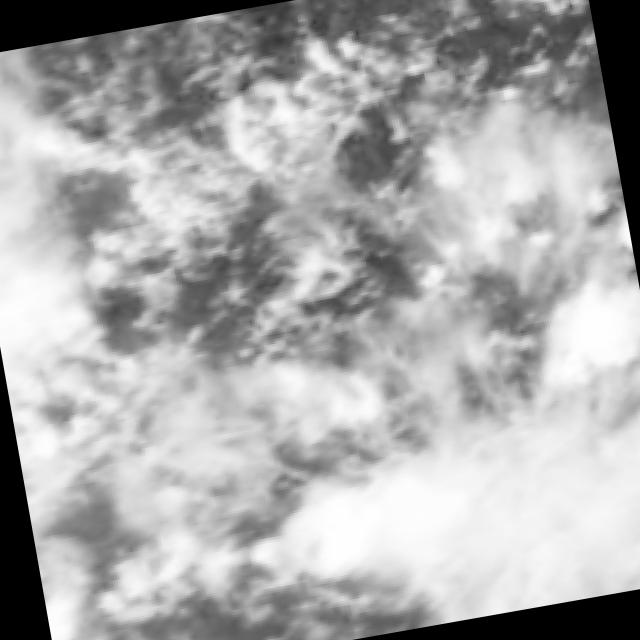CB: (428, 430, 640, 621)
